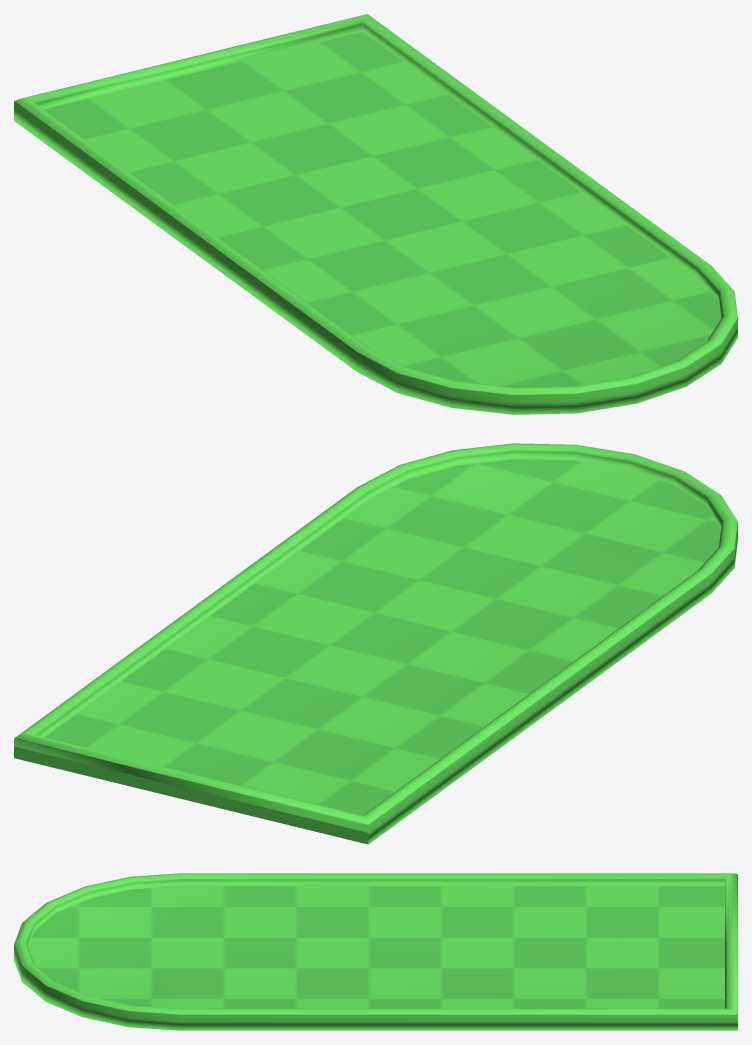
File: san.fbx
The picture shows the model from 3 angles, top to bottom: view 1: azimuth 30°, elevation 25°; view 2: azimuth 150°, elevation 25°; view 3: azimuth 270°, elevation 25°; orthographic projection. The views are drawn at different scales.
Parts seen in each view (by area): view 1: pCylinder1; view 2: pCylinder1; view 3: pCylinder1.
Part boxes in pixels (bbox=[...]): pCylinder1: bbox=[14, 14, 737, 414]; pCylinder1: bbox=[14, 443, 737, 844]; pCylinder1: bbox=[14, 873, 737, 1030].
Bounding box in the file's own units: 1792 × 112 × 3900.
